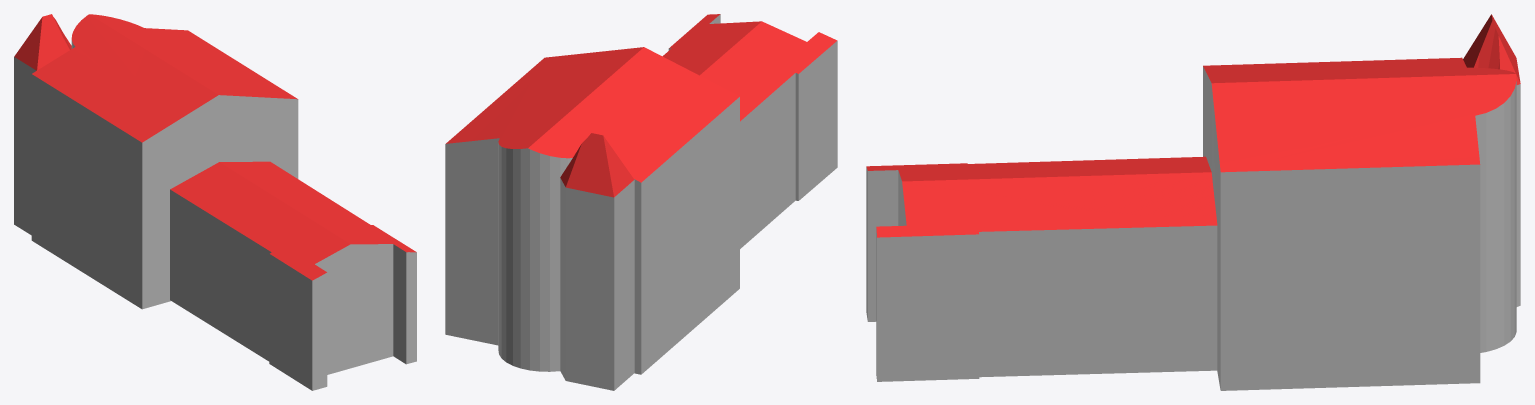
Rendered from DEBE3D04YY500009QV.dae.
3 views of the same model, side by side, from view 1: azimuth 30°, elevation 25°; view 2: azimuth 150°, elevation 25°; view 3: azimuth 270°, elevation 25° (orthographic). The views are drawn at different scales.
Bounding box in the file's own units: 13.97 × 34.2 × 16.04.
